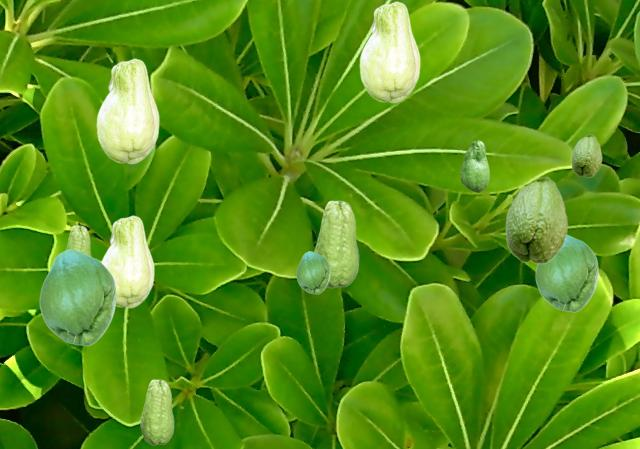sayote: (39, 249, 115, 345), (96, 58, 158, 163), (359, 1, 419, 102), (505, 176, 567, 263), (101, 215, 153, 307), (535, 234, 597, 311), (314, 200, 358, 287), (140, 379, 173, 444), (460, 140, 488, 191), (296, 251, 329, 293), (571, 134, 601, 176), (65, 225, 91, 255)
